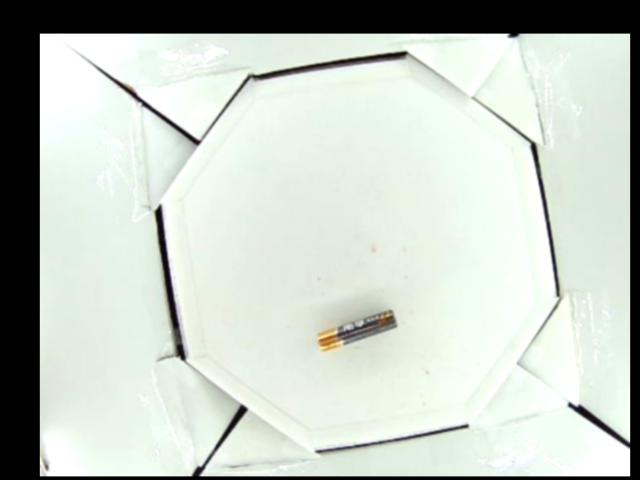Battery: (314, 308, 401, 353)
